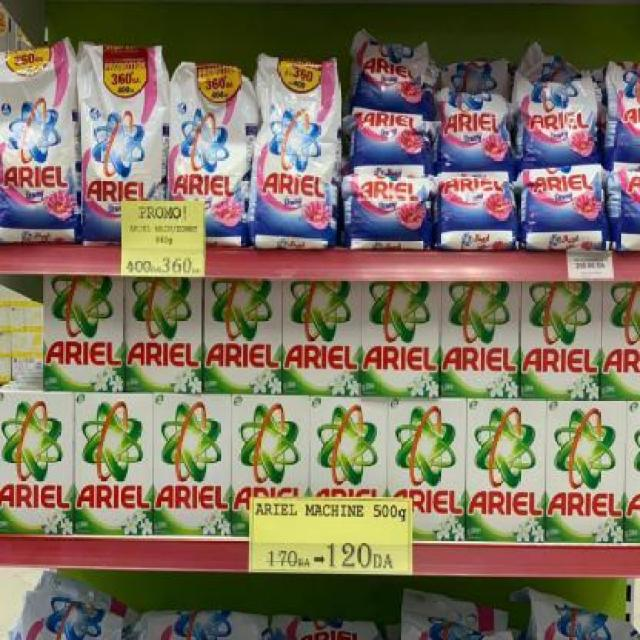Detergent: (74, 40, 169, 238), (250, 49, 338, 248), (166, 59, 252, 243), (0, 36, 75, 235), (542, 396, 626, 546), (147, 390, 230, 538), (73, 389, 153, 537), (389, 396, 468, 544), (0, 386, 77, 537), (512, 43, 606, 166), (468, 400, 544, 545), (359, 279, 441, 399), (435, 59, 517, 178), (279, 277, 361, 395), (442, 275, 520, 396), (120, 275, 202, 390), (41, 276, 122, 392), (202, 279, 283, 395), (349, 29, 442, 114), (517, 165, 608, 250), (346, 173, 436, 253), (438, 173, 520, 256), (347, 109, 438, 173), (598, 276, 639, 395)
